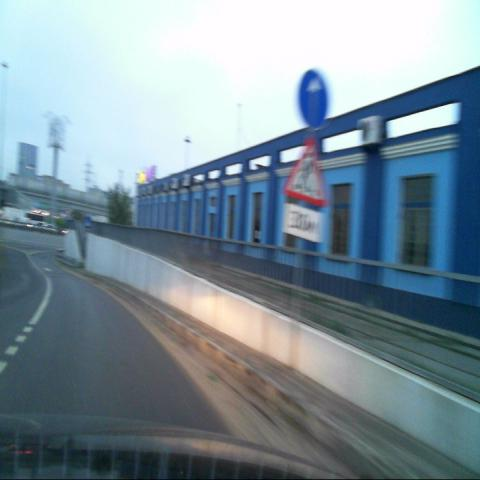1_22: (284, 137, 326, 207)
8_1_1: (282, 204, 324, 244)
